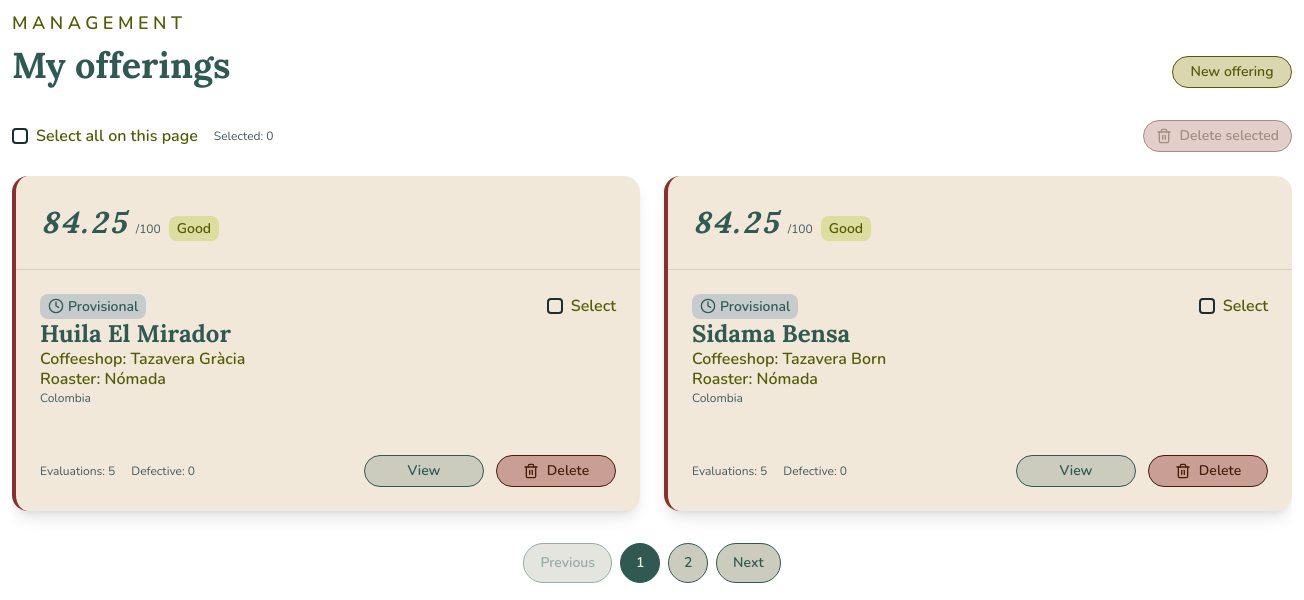
Test: ManageOfferingsPanel — selection (spec 'Offering selection') › reads select all unchecked at none selected and checked at a full page selection
This screenshot has width=1304, height=600.
Expected: the checkbox labelled "Select all on this page" is not checked, [12,128,28,144]
Click the checkbox named "Select Huila El Mirador — Tazavera Gràcia" at (555,306), box [547,298,563,314]
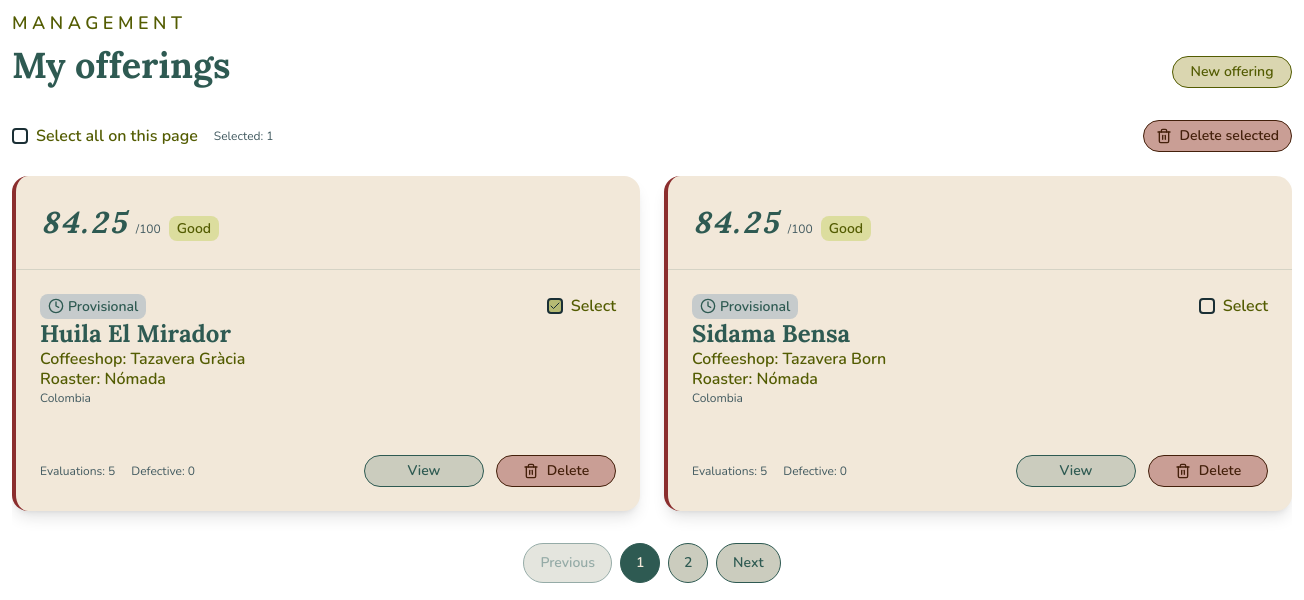
Expected: the checkbox labelled "Select all on this page" is not checked, [12,128,28,144]
Click the checkbox named "Select Sidama Bensa — Tazavera Born" at (1207,306), box [1199,298,1215,314]
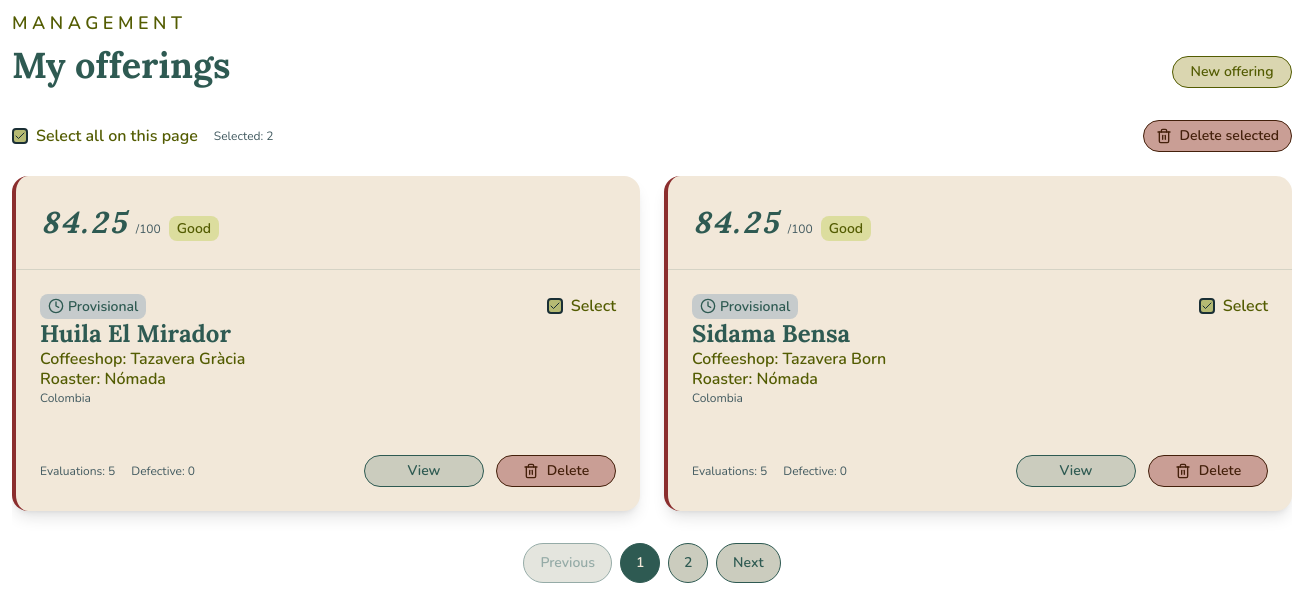
Result: the checkbox labelled "Select all on this page" is checked at [12,128,28,144]
